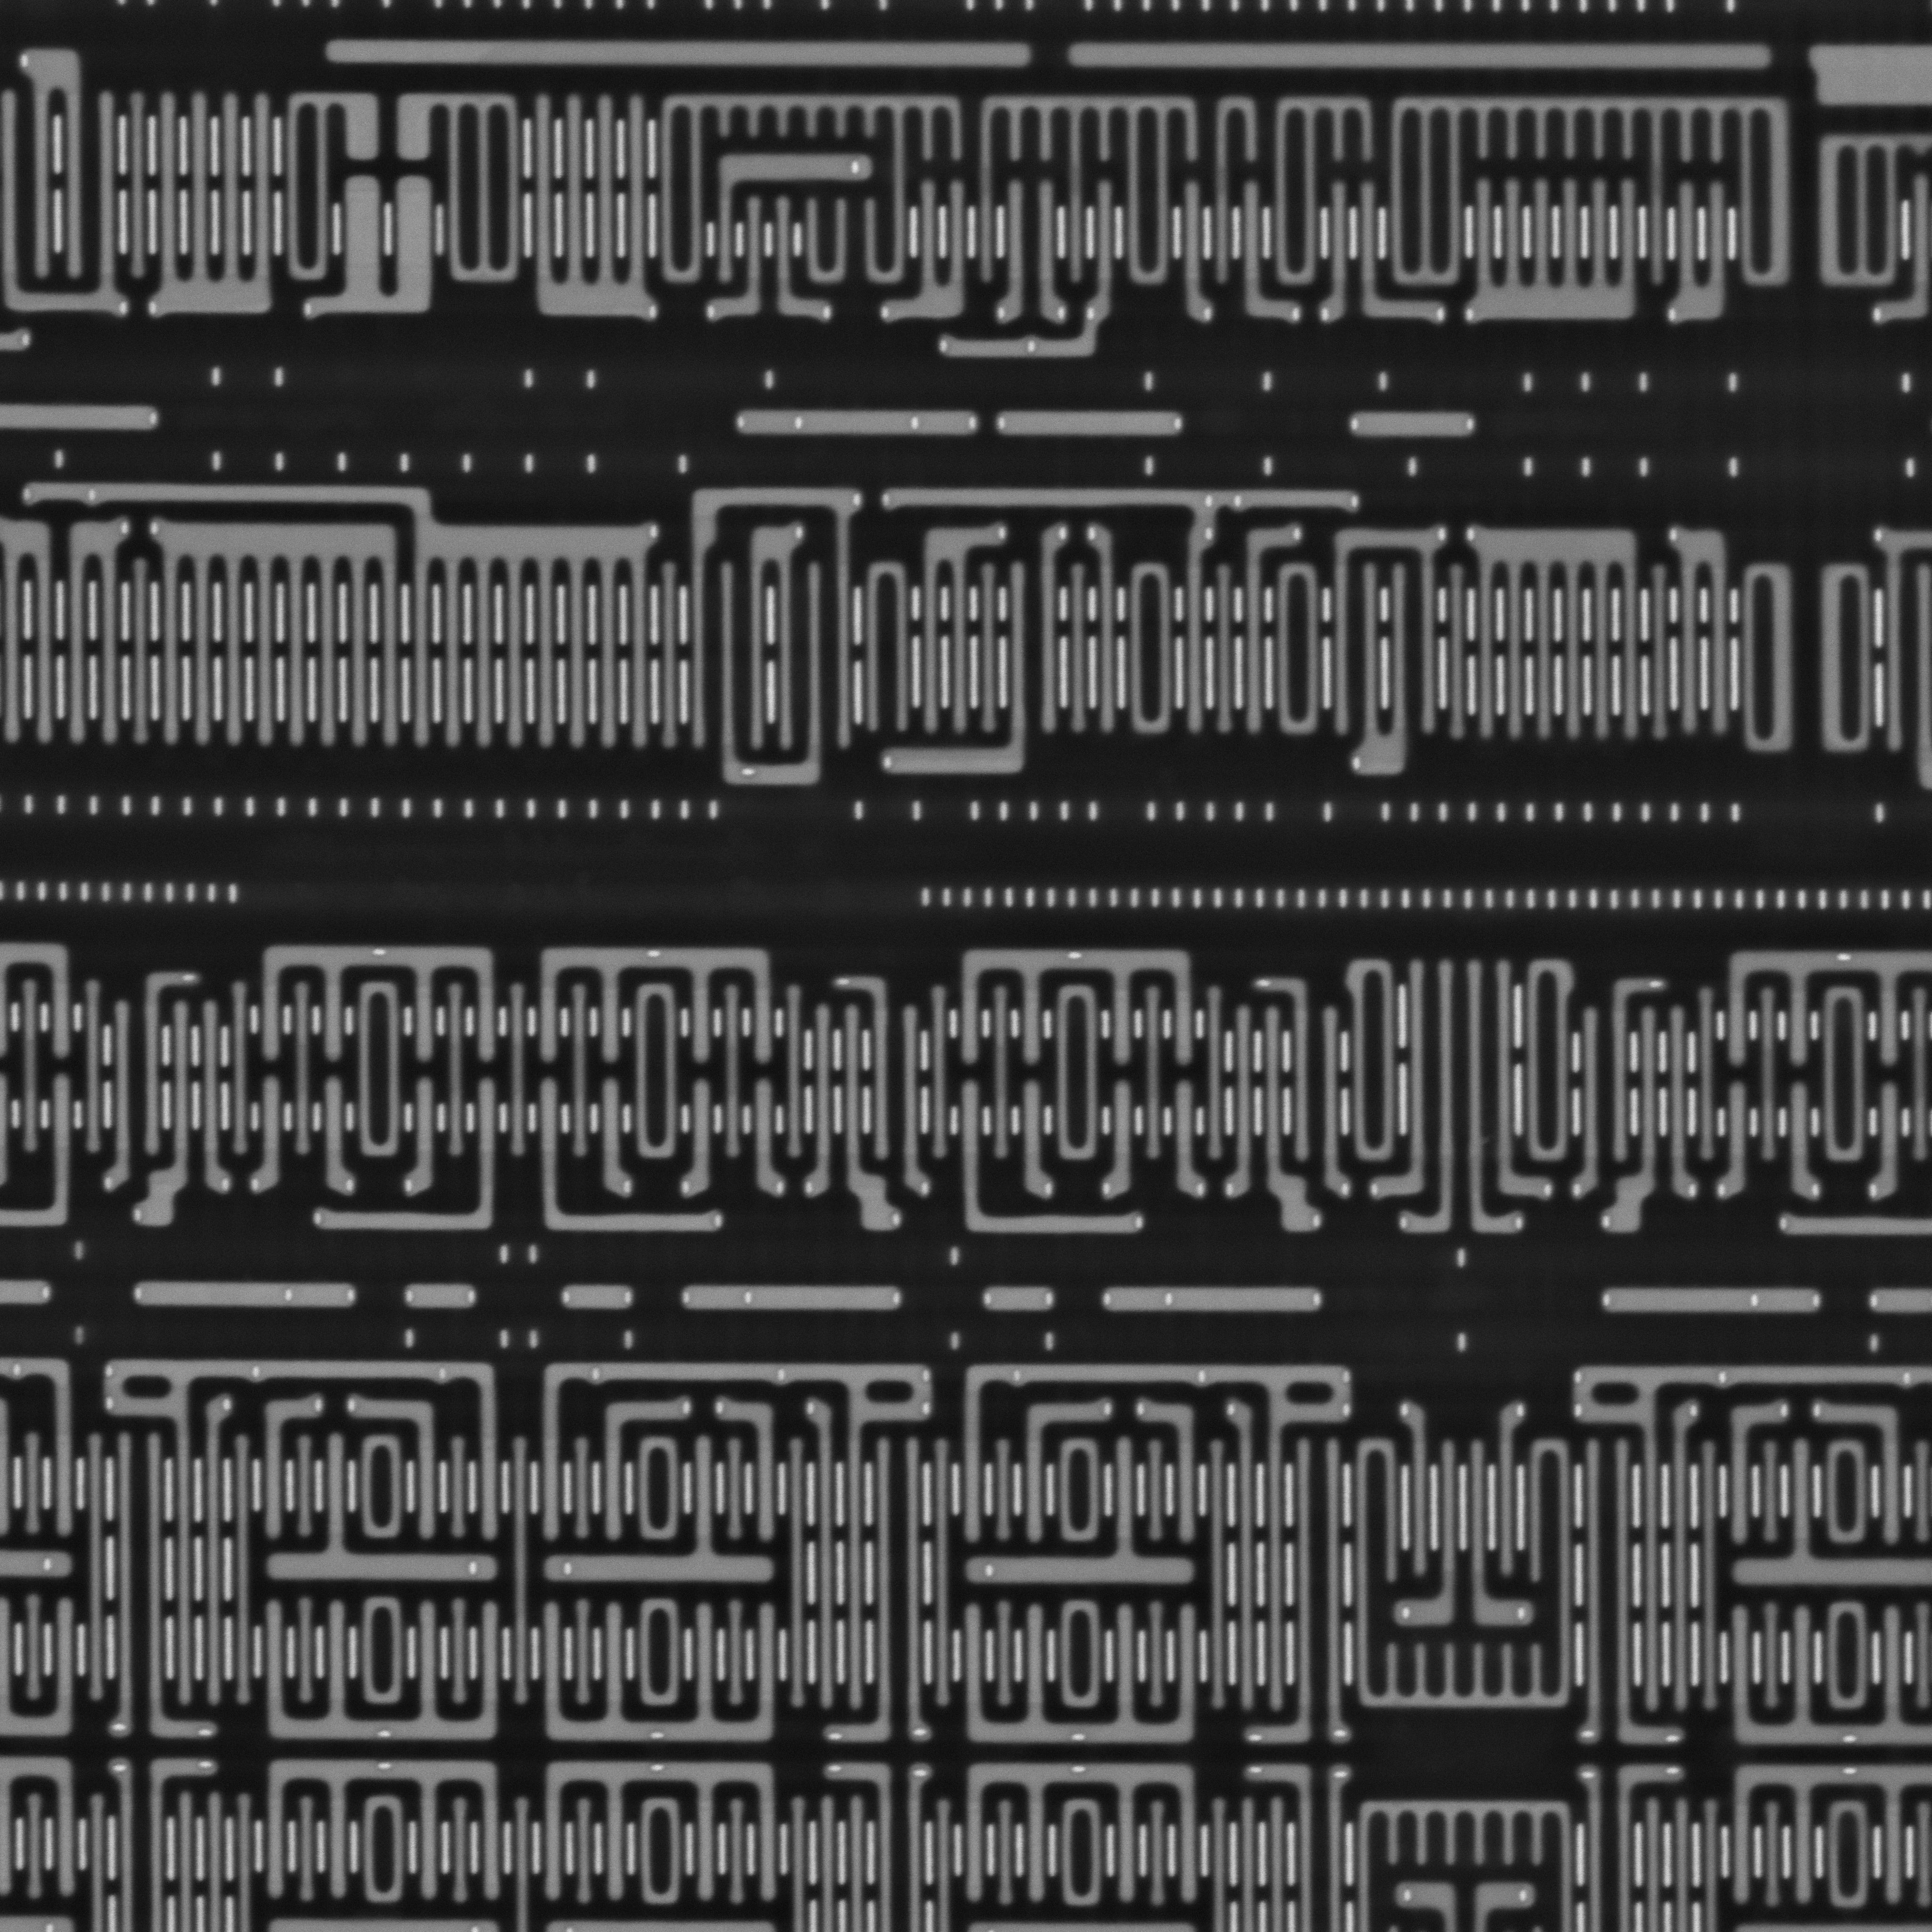circularDummy: (318, 34, 1035, 71), (1070, 41, 1776, 74)
doubleGate: (909, 511, 1010, 740), (303, 173, 444, 320), (51, 504, 129, 755), (1667, 518, 1744, 738), (1670, 177, 1736, 331)
multiGate: (405, 510, 662, 777), (149, 510, 418, 754), (1463, 518, 1652, 750), (525, 1753, 796, 1914), (251, 1748, 515, 1913), (950, 1589, 1210, 1748), (529, 1587, 787, 1746), (950, 1753, 1215, 1905), (253, 1587, 511, 1739), (246, 934, 511, 1070), (517, 83, 660, 324), (524, 939, 787, 1069), (943, 945, 1210, 1072), (145, 87, 285, 322), (1458, 173, 1651, 322)
publicGate: (674, 479, 863, 791), (1369, 947, 1553, 1244), (101, 1426, 216, 1743), (1320, 522, 1453, 784), (9, 48, 129, 320), (99, 955, 195, 1191), (994, 179, 1069, 327)
resistor: (134, 1276, 363, 1315), (679, 1283, 904, 1316), (1601, 1284, 1826, 1318), (1102, 1286, 1334, 1316), (729, 407, 984, 433), (994, 412, 1187, 439), (1345, 407, 1484, 433), (391, 1281, 490, 1313), (559, 1283, 646, 1315), (977, 1288, 1060, 1311)
singleGate: (1808, 1394, 1916, 1552), (835, 996, 902, 1244), (1010, 1389, 1111, 1552), (347, 1394, 453, 1546), (1599, 1003, 1668, 1233), (134, 1001, 203, 1230), (1256, 996, 1322, 1235), (1235, 522, 1304, 738), (596, 1391, 694, 1543), (1348, 177, 1444, 329), (1658, 1398, 1702, 1718), (193, 1391, 237, 1707), (1228, 1401, 1272, 1709), (805, 1396, 846, 1716), (1228, 173, 1306, 327), (715, 1394, 794, 1545), (1134, 1396, 1207, 1553), (253, 1384, 324, 1545), (1716, 1394, 1790, 1545), (702, 193, 777, 331), (1086, 515, 1129, 741), (761, 195, 833, 326), (191, 994, 237, 1198), (1660, 1000, 1704, 1207), (1221, 998, 1260, 1198), (1488, 1398, 1530, 1578), (1398, 1398, 1438, 1585), (807, 1000, 844, 1205), (1171, 172, 1217, 327), (587, 1074, 640, 1201), (1014, 1070, 1063, 1207), (1861, 1070, 1911, 1205), (1780, 1072, 1829, 1203), (311, 1067, 357, 1207), (1099, 1074, 1146, 1205), (1718, 1074, 1760, 1217), (741, 1072, 787, 1203), (398, 1074, 446, 1200), (1162, 1076, 1208, 1205), (251, 1067, 295, 1200), (679, 1074, 724, 1205), (1318, 175, 1355, 331)
